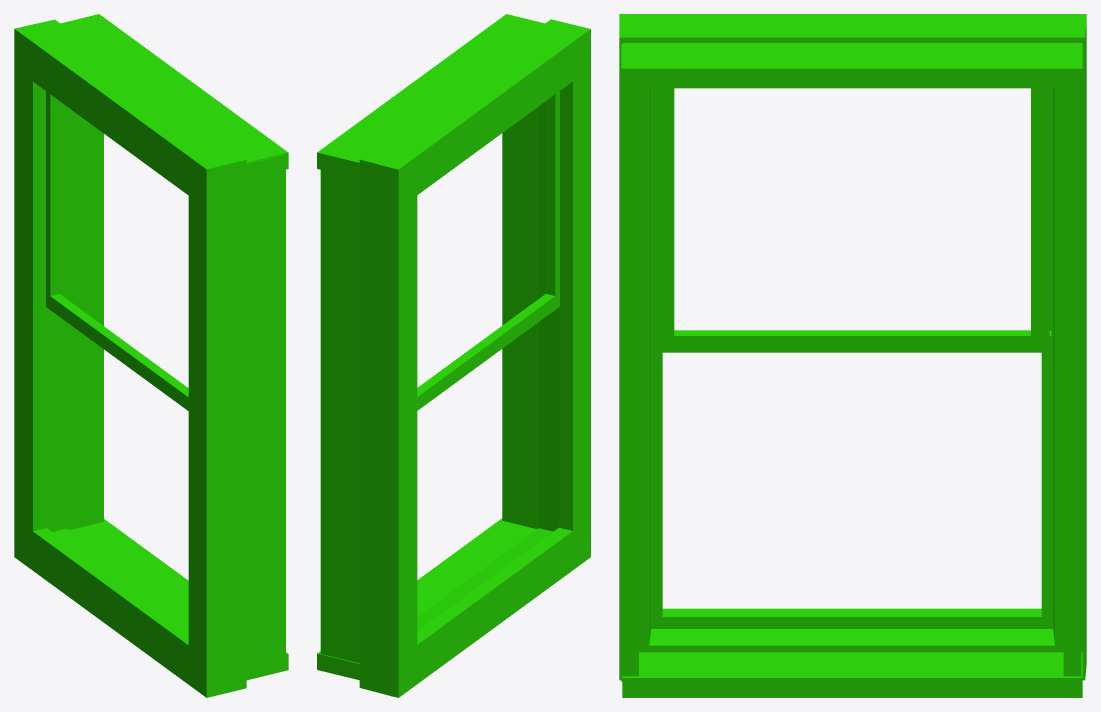
Rendered from Window_C_01B_Lod0.fbx.
3 renders of one model, left to right at view 1: azimuth 30°, elevation 25°; view 2: azimuth 150°, elevation 25°; view 3: azimuth 270°, elevation 25°, orthographic. The views are drawn at different scales.
Visible parts, largest first — view 1: Window_C_01B_Lod0; view 2: Window_C_01B_Lod0; view 3: Window_C_01B_Lod0.
Boxes of the visible parts, x1,y1,x2,y2 form: Window_C_01B_Lod0: (14,14,288,697); Window_C_01B_Lod0: (317,14,590,697); Window_C_01B_Lod0: (619,14,1086,697).
Size of the model in its own units: 22.84 by 139 by 91.49.
